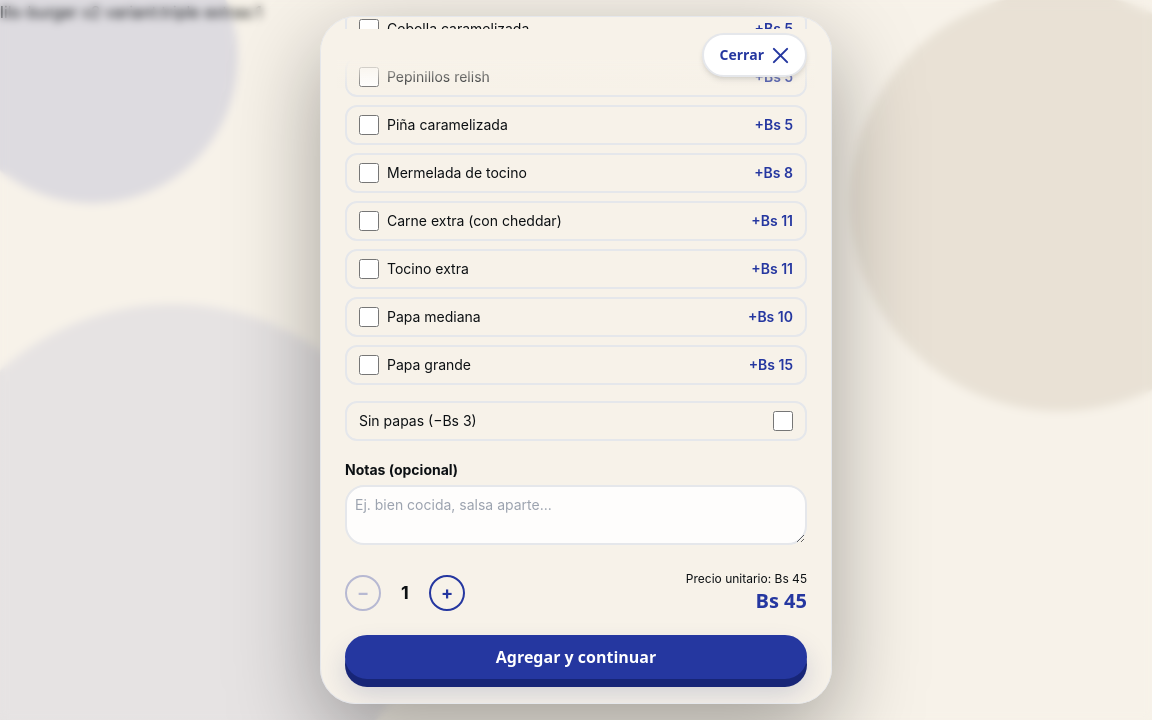
ProductModal › muestra y aplica el descuento por pedir la hamburguesa sin papas
(page scrolled)
Click the checkbox labelled "Sin papas (−Bs 3)": (783, 421) top-left (773, 411), bottom-right (793, 431)
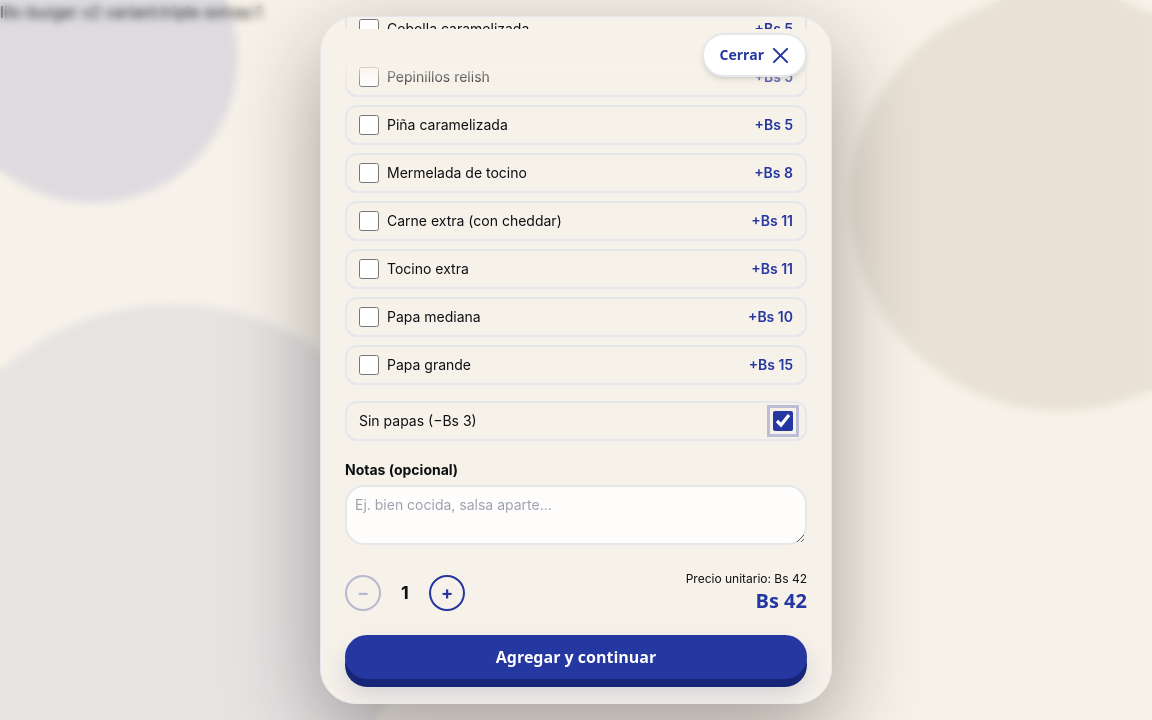
Now the text "Bs 42" is shown, box top-left (756, 587), bottom-right (807, 614)
